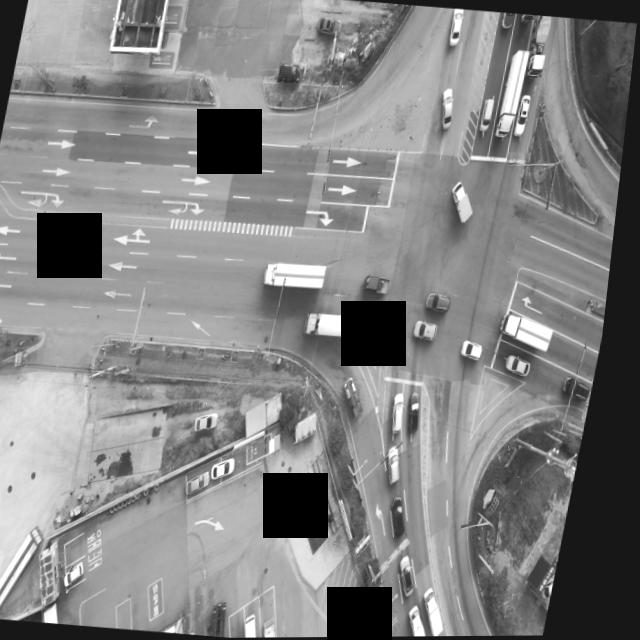car: (405, 555, 432, 598), (395, 496, 421, 540), (412, 392, 434, 439), (436, 88, 458, 131), (395, 393, 417, 436), (391, 445, 413, 486), (516, 94, 534, 137), (568, 378, 600, 402), (193, 471, 219, 499), (219, 455, 245, 481), (75, 562, 98, 591), (510, 356, 539, 378), (447, 8, 464, 45), (429, 291, 457, 313), (202, 411, 228, 433), (419, 321, 446, 342), (478, 98, 494, 133), (466, 341, 491, 362), (277, 62, 302, 83), (315, 17, 341, 37), (501, 12, 514, 29)
medium_truck: (0, 525, 52, 621), (494, 48, 528, 138), (503, 309, 564, 352), (264, 260, 331, 294), (308, 313, 372, 344), (526, 15, 553, 75), (219, 601, 241, 637)
small_bus: (254, 612, 279, 638)
small_truck: (432, 587, 460, 637), (448, 181, 479, 226), (346, 375, 376, 421), (417, 603, 448, 637), (366, 275, 396, 296), (273, 618, 294, 638)
